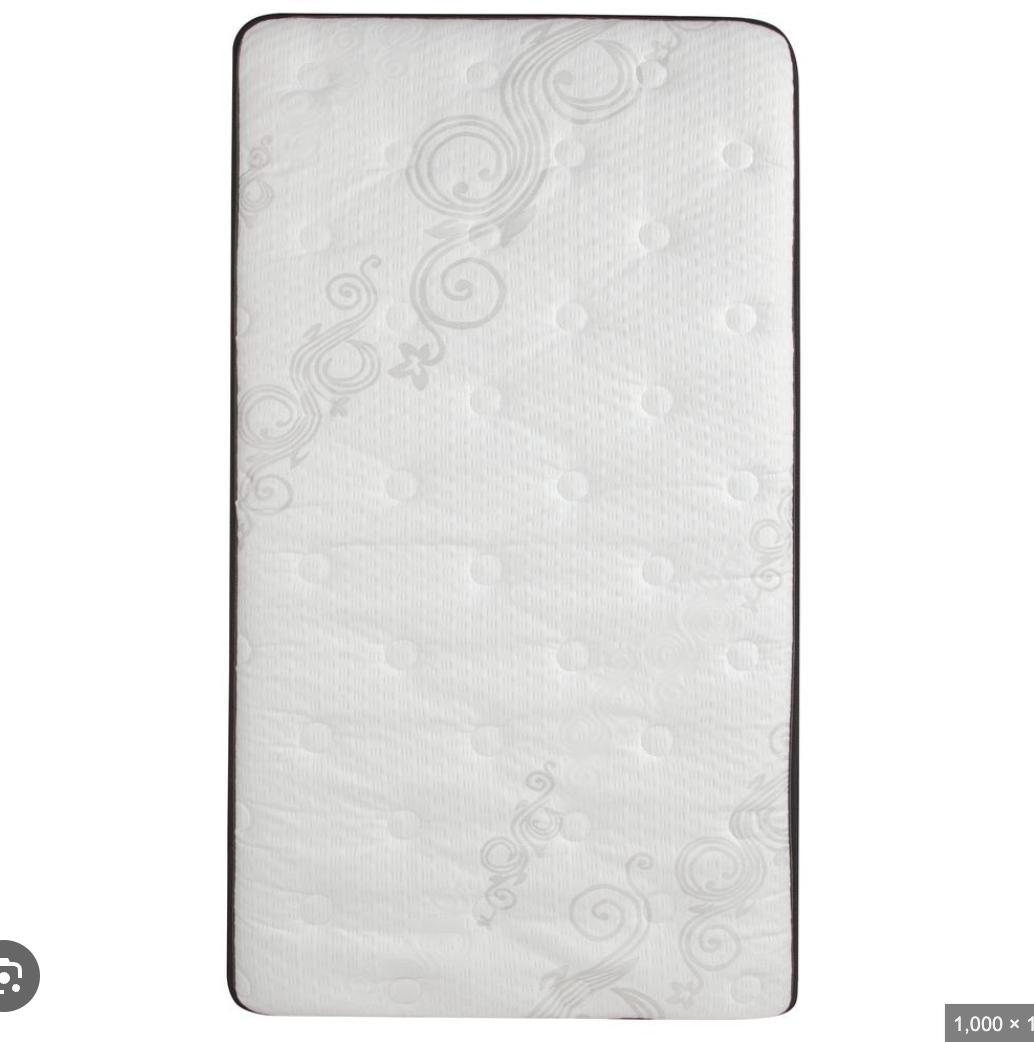Bed-Mattress: (221, 5, 807, 1023)
